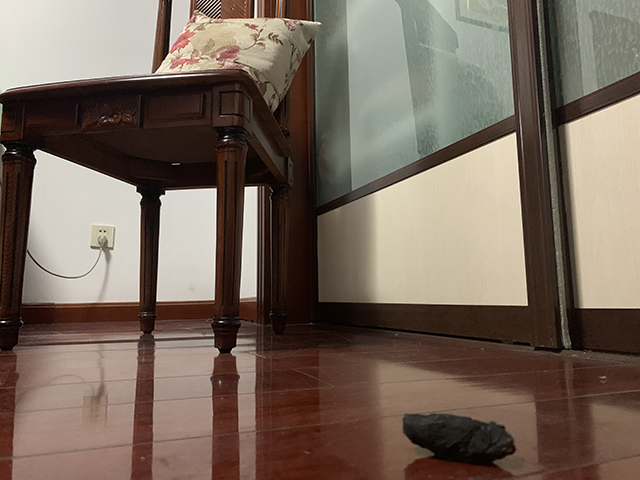feces: (402, 412, 518, 466)
stool: (1, 1, 295, 355)
